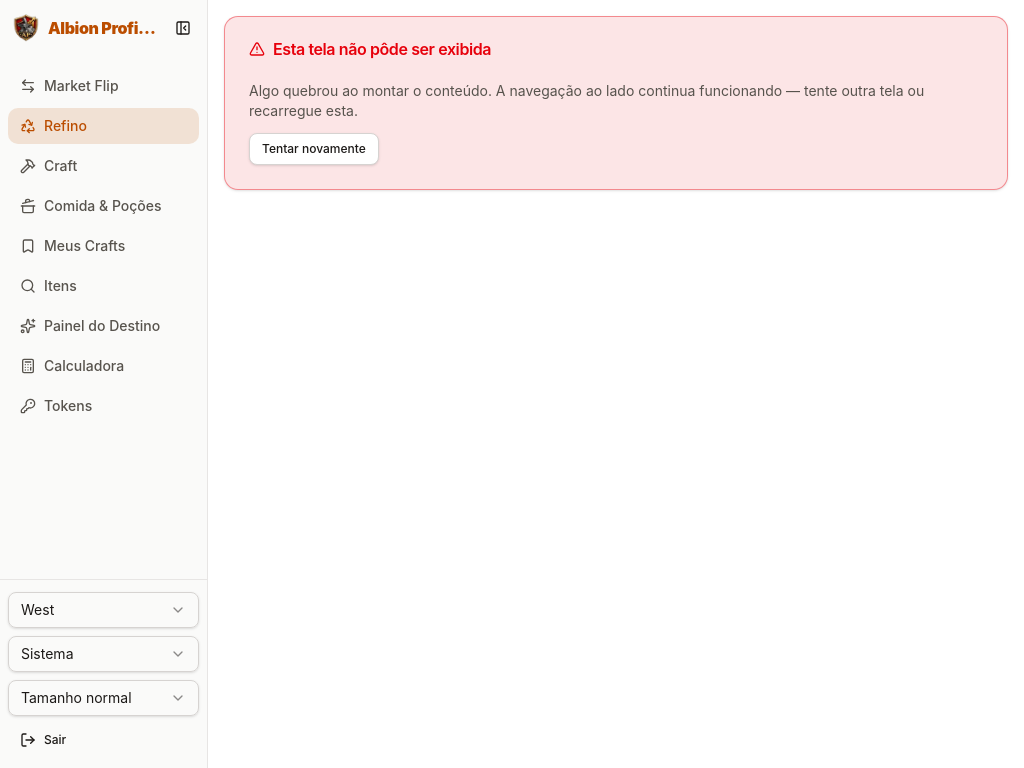
Scenario: ErrorBoundary › "Tentar novamente" volta a montar a tela
Expected: the text "Esta tela não pôde ser exibida" is shown, [249,39,491,59]
Click the button "Tentar novamente" at x=314, y=149, box [249,133,379,165]
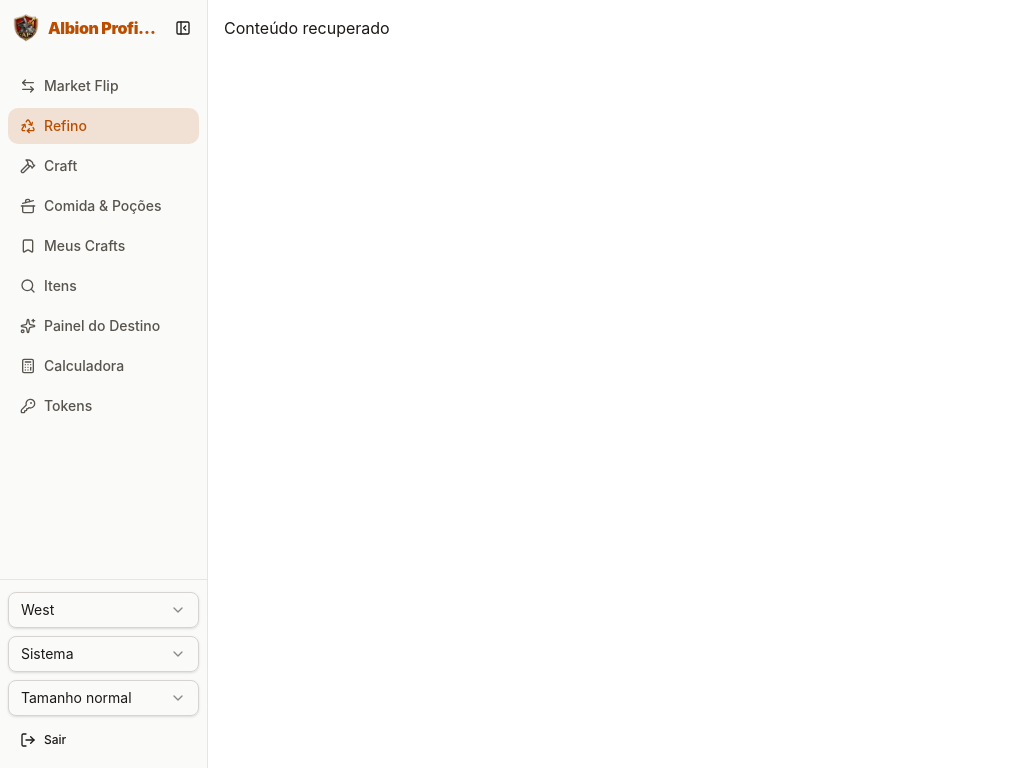
Now the text "Conteúdo recuperado" is shown, box [224,18,390,38]
